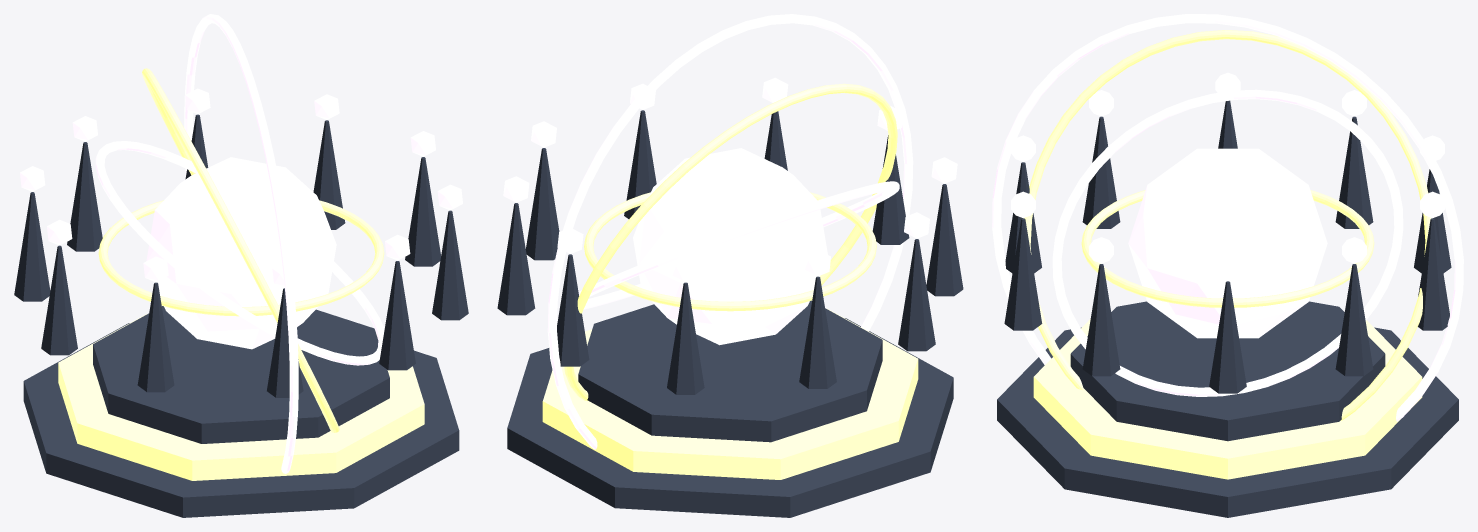
The model's file is gpu-blender-v56.glb.
3 views of the same model, side by side, from view 1: azimuth 30°, elevation 25°; view 2: azimuth 150°, elevation 25°; view 3: azimuth 270°, elevation 25° (orthographic). The views are drawn at different scales.
Visible parts, largest first — view 1: Cylinder.002, SovereignCore_zoth-relay, Cylinder, Cylinder.001, Torus.003, Torus.001, Torus, Torus.002, Cone.006, Cone.009, Cone.005, Cone.008 (+12 smaller); view 2: Cylinder.002, SovereignCore_zoth-relay, Cylinder, Cylinder.001, Torus.003, Torus.002, Torus, Torus.001, Cone.005, Cone.001, Cone.006, Cone.003 (+12 smaller); view 3: SovereignCore_zoth-relay, Cylinder.002, Cylinder, Cylinder.001, Torus.003, Torus.001, Torus.002, Torus, Cone.001, Cone.009, Cone, Cone.008 (+7 smaller).
Boxes of the visible parts, x1,y1,x2,y2 form: Cylinder.002: [93, 306, 389, 443]; SovereignCore_zoth-relay: [146, 157, 336, 349]; Cylinder: [23, 323, 459, 517]; Cylinder.001: [58, 314, 424, 480]; Torus.003: [184, 14, 298, 473]; Torus.001: [95, 141, 384, 365]; Torus: [98, 200, 384, 316]; Torus.002: [142, 68, 339, 432]; Cone.006: [137, 282, 174, 392]; Cone.009: [432, 210, 468, 320]; Cone.005: [41, 245, 77, 355]; Cone.008: [379, 261, 415, 370]; Cylinder.002: [578, 300, 882, 442]; SovereignCore_zoth-relay: [633, 148, 827, 345]; Cylinder: [507, 318, 953, 517]; Cylinder.001: [542, 308, 918, 479]; Torus.003: [547, 14, 913, 449]; Torus.002: [564, 83, 897, 400]; Torus: [584, 192, 876, 311]; Torus.001: [578, 181, 899, 309]; Cone.005: [898, 239, 935, 351]; Cone.001: [497, 203, 535, 315]; Cone.006: [926, 184, 963, 296]; Cone.003: [667, 282, 704, 394]; SovereignCore_zoth-relay: [1128, 148, 1327, 338]; Cylinder.002: [1070, 301, 1385, 441]; Cylinder: [997, 327, 1458, 517]; Cylinder.001: [1033, 319, 1422, 479]; Torus.003: [992, 14, 1463, 421]; Torus.001: [1052, 89, 1403, 396]; Torus.002: [1024, 30, 1431, 420]; Torus: [1081, 190, 1374, 307]; Cone.001: [1335, 264, 1373, 376]; Cone.009: [1082, 264, 1120, 376]; Cone: [1209, 281, 1246, 393]; Cone.008: [1004, 218, 1042, 330].
Bounding box in the file's own units: 4.41 × 4.7 × 4.49.
